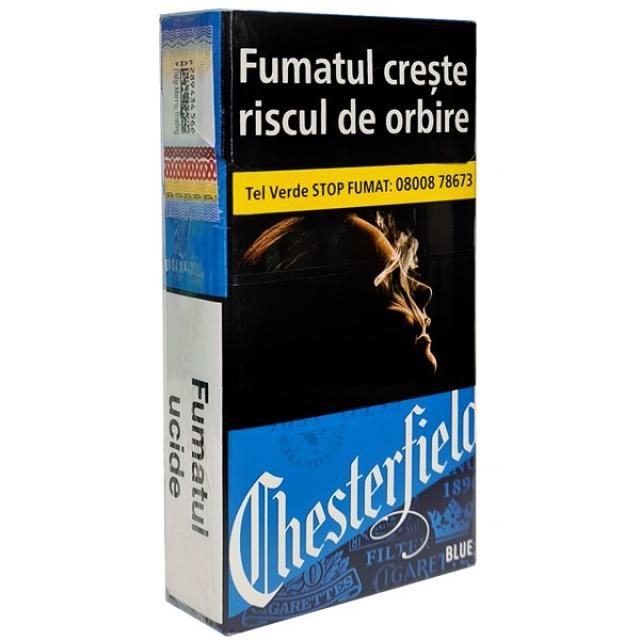chesterfield: (156, 14, 479, 634)
